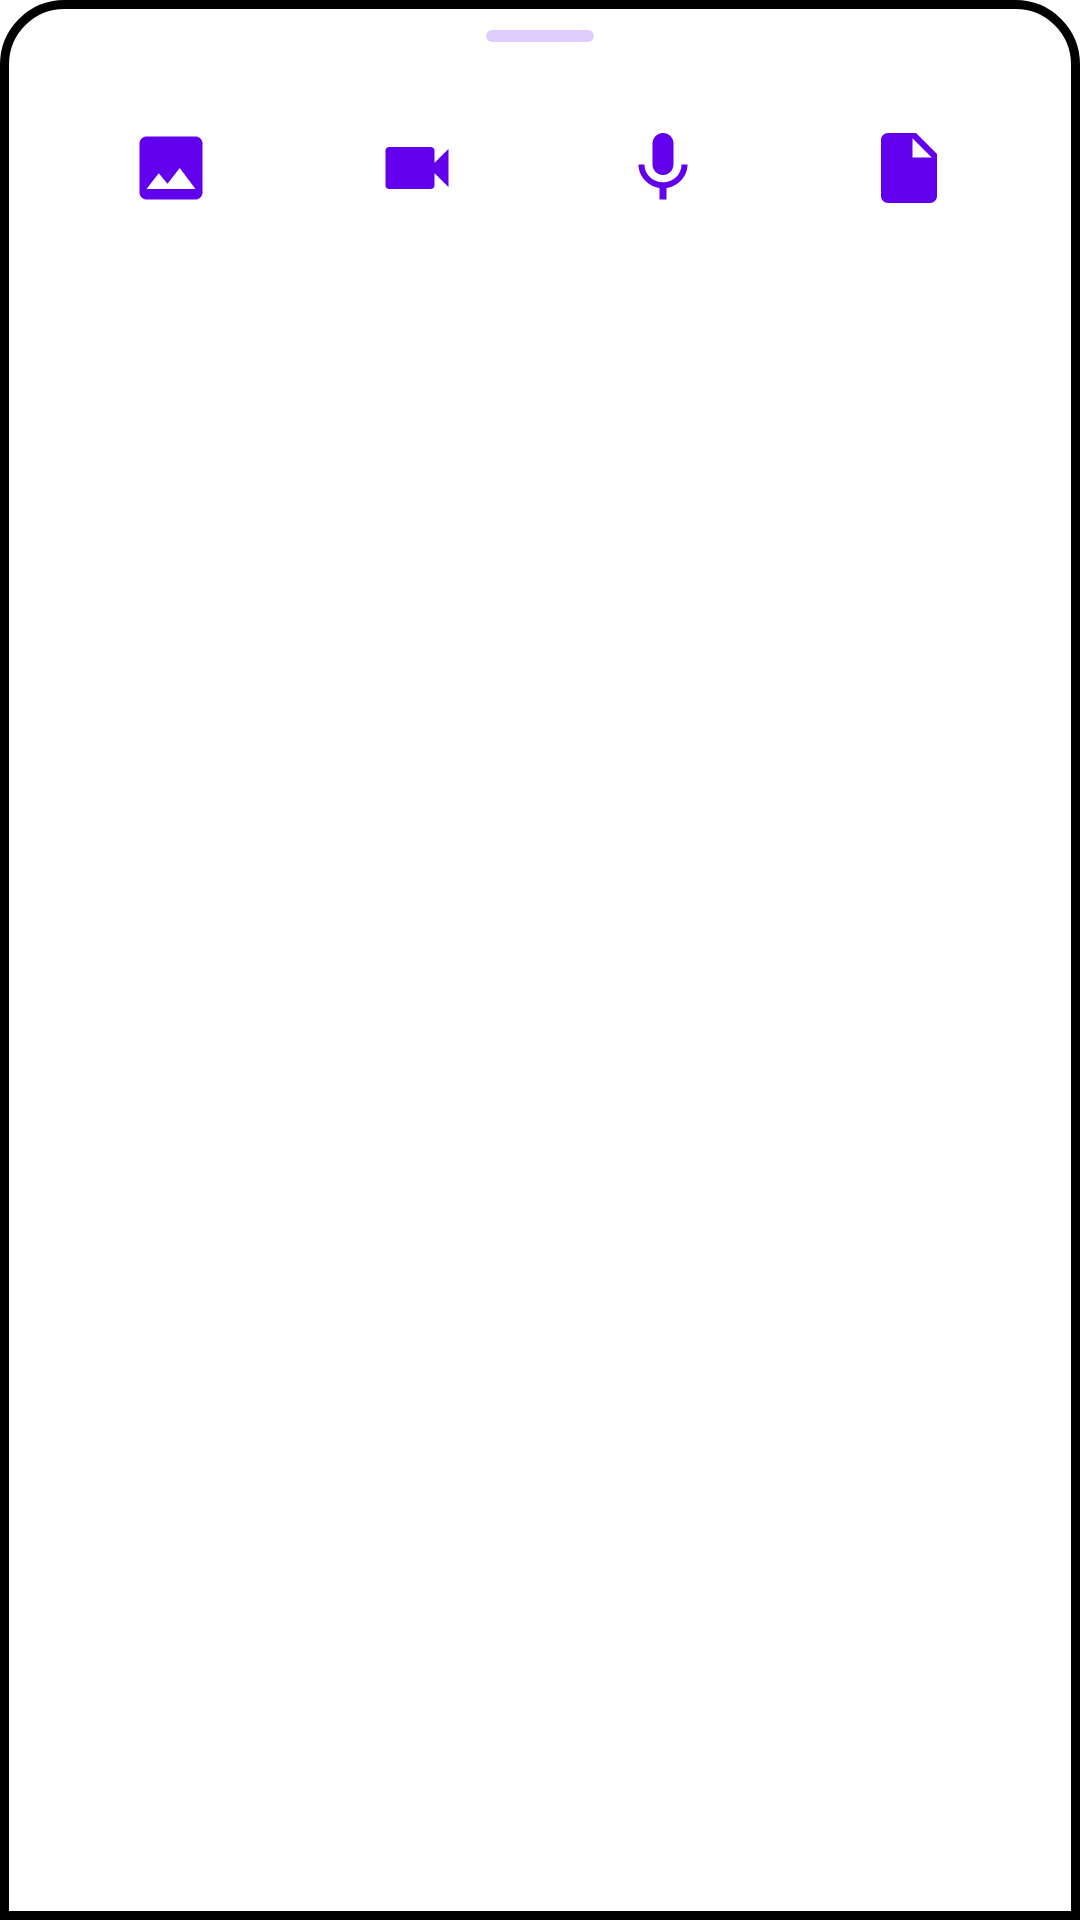

Point at icon controls on the screen. Image size 1080px×1920px, points as [x,y].
attach photo: [171,168]
Audio: [663,166]
File: [909,168]
Video: [417,168]
